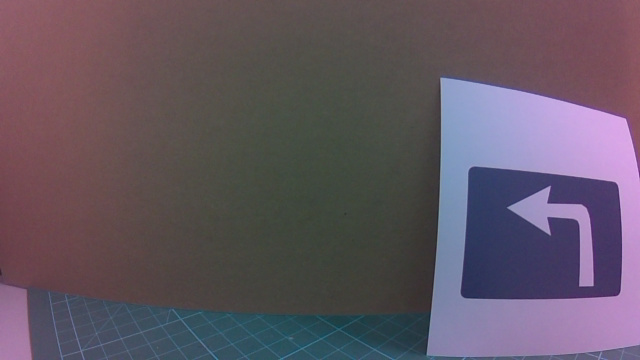left: (432, 154, 640, 325)
